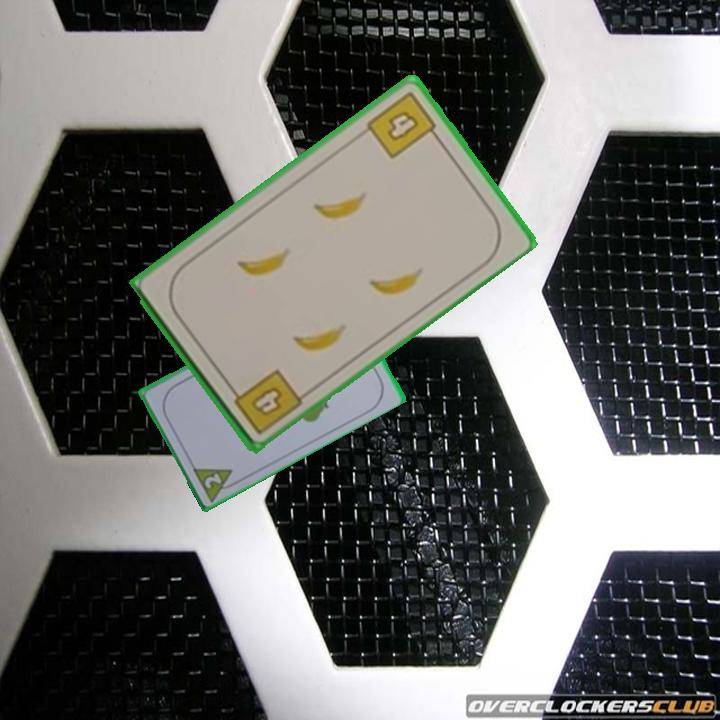2p: (188, 462, 243, 503)
4b: (362, 87, 443, 161), (225, 365, 305, 437)
